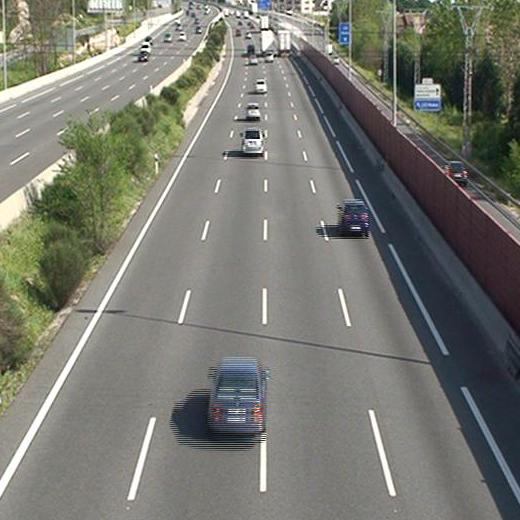car: (207, 359, 268, 432), (339, 201, 370, 232), (241, 129, 265, 154), (246, 103, 260, 119), (254, 79, 266, 92), (264, 52, 274, 63), (247, 55, 257, 64)
truck: (278, 29, 291, 58), (260, 31, 274, 52)
